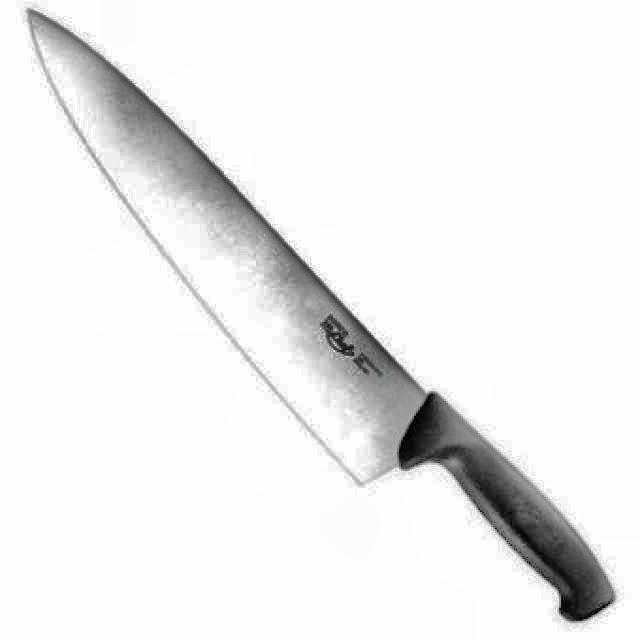knife: (26, 8, 618, 624)
